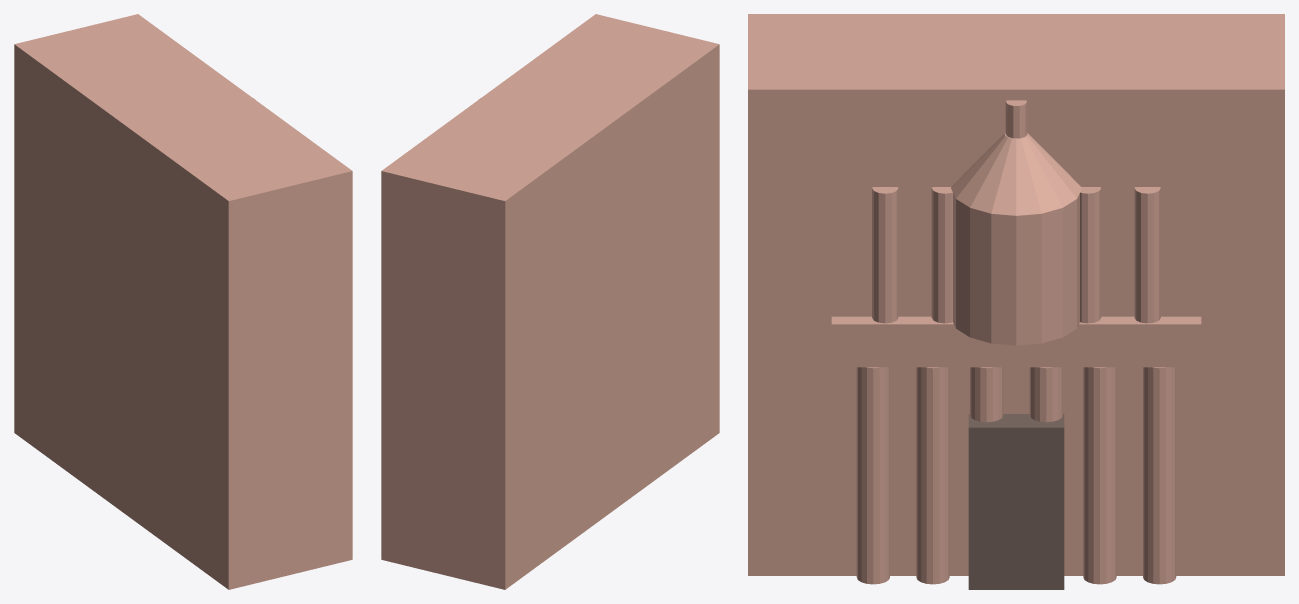
The model's file is petra_s3.glb.
3 views of the same model, side by side, from view 1: azimuth 30°, elevation 25°; view 2: azimuth 150°, elevation 25°; view 3: azimuth 270°, elevation 25° (orthographic). The views are drawn at different scales.
Parts seen in each view (by area): view 1: Cube; view 2: Cube; view 3: Cube, Cube.002, Cylinder.006, Cube.001, Cylinder, Cylinder.005, Cylinder.001, Cylinder.004, Cone, Cylinder.008, Cylinder.011, Cylinder.009 (+4 smaller).
Boxes of the visible parts, box(x1,y1,x2,y2) form: Cube: box(14, 14, 352, 589); Cube: box(381, 14, 719, 589); Cube: box(748, 14, 1284, 575); Cube.002: box(968, 414, 1064, 589); Cylinder.006: box(953, 193, 1079, 345); Cube.001: box(831, 316, 1201, 367); Cylinder: box(856, 367, 889, 584); Cylinder.005: box(1143, 367, 1176, 584); Cylinder.001: box(916, 367, 949, 584); Cylinder.004: box(1083, 367, 1116, 584); Cone: box(951, 133, 1081, 215); Cylinder.008: box(872, 187, 898, 323); Cylinder.011: box(1134, 187, 1160, 323); Cylinder.009: box(931, 187, 952, 323).
Size of the model in its own units: 4.15 by 9 by 9.
